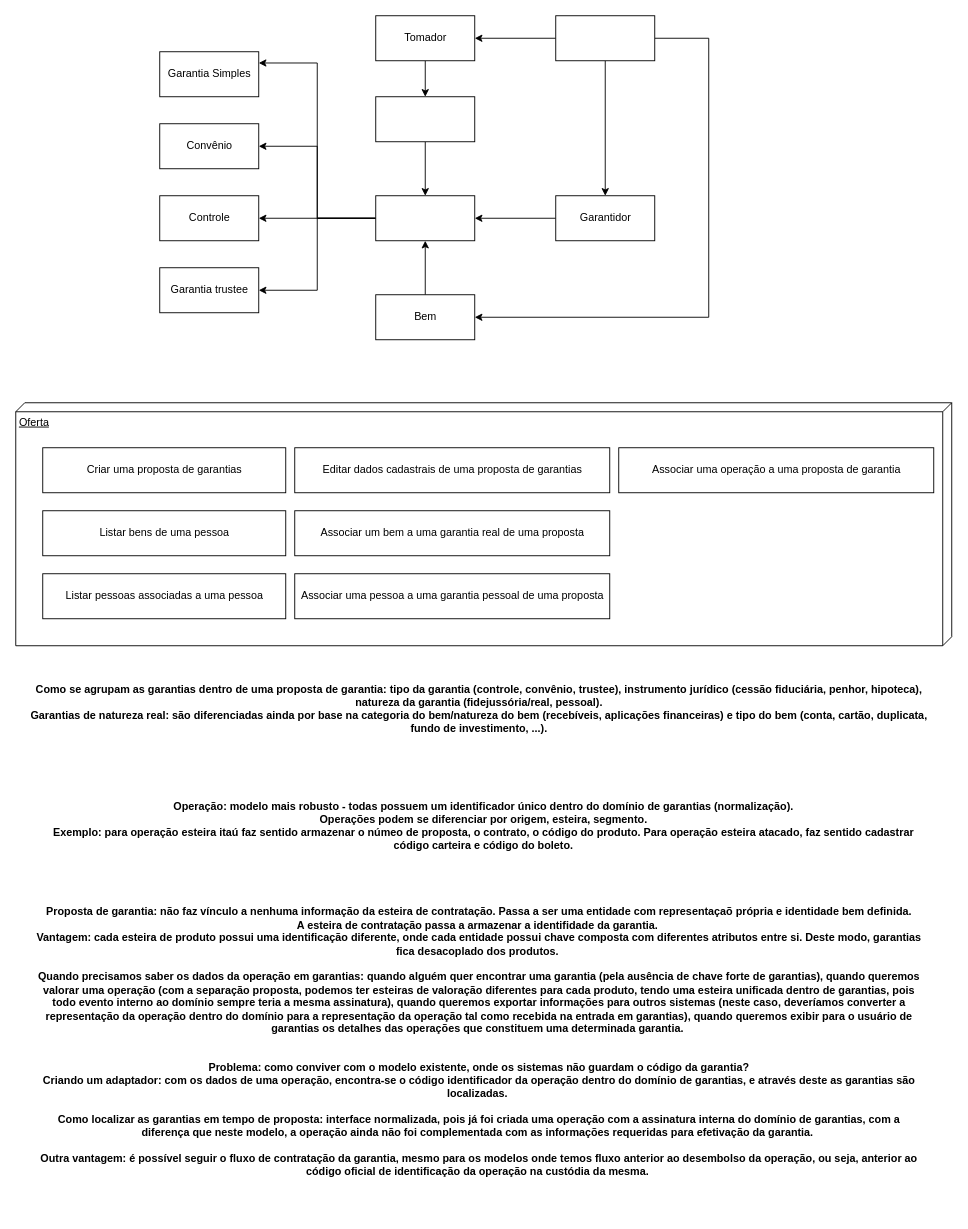
This 968x1229 diagram has some shape labels left out. Here are the shapes that lost their labels. From the top down, the centre of each, then its label:
At [605,38]: "Pessoa".
At [425,119]: "Operação".
At [425,218]: "Garantia".
